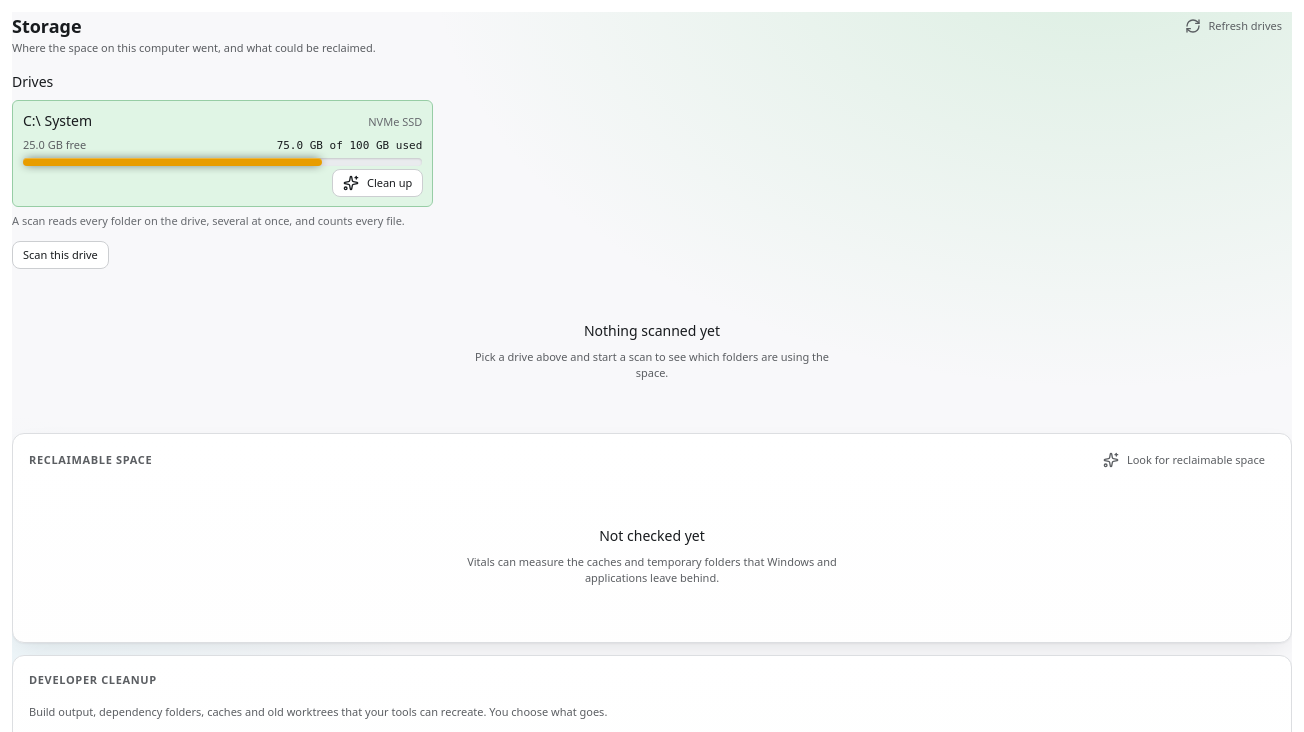
Test: StorageScreen › the review basket › opens the folder row menu on a right click but not on a left-button contextmenu
Expected: the heading "Storage" is shown, top-left (12, 14), bottom-right (82, 38)
Click the button "Scan this drive".
click(60, 255)  # box top-left (12, 241), bottom-right (109, 269)
(page scrolled)
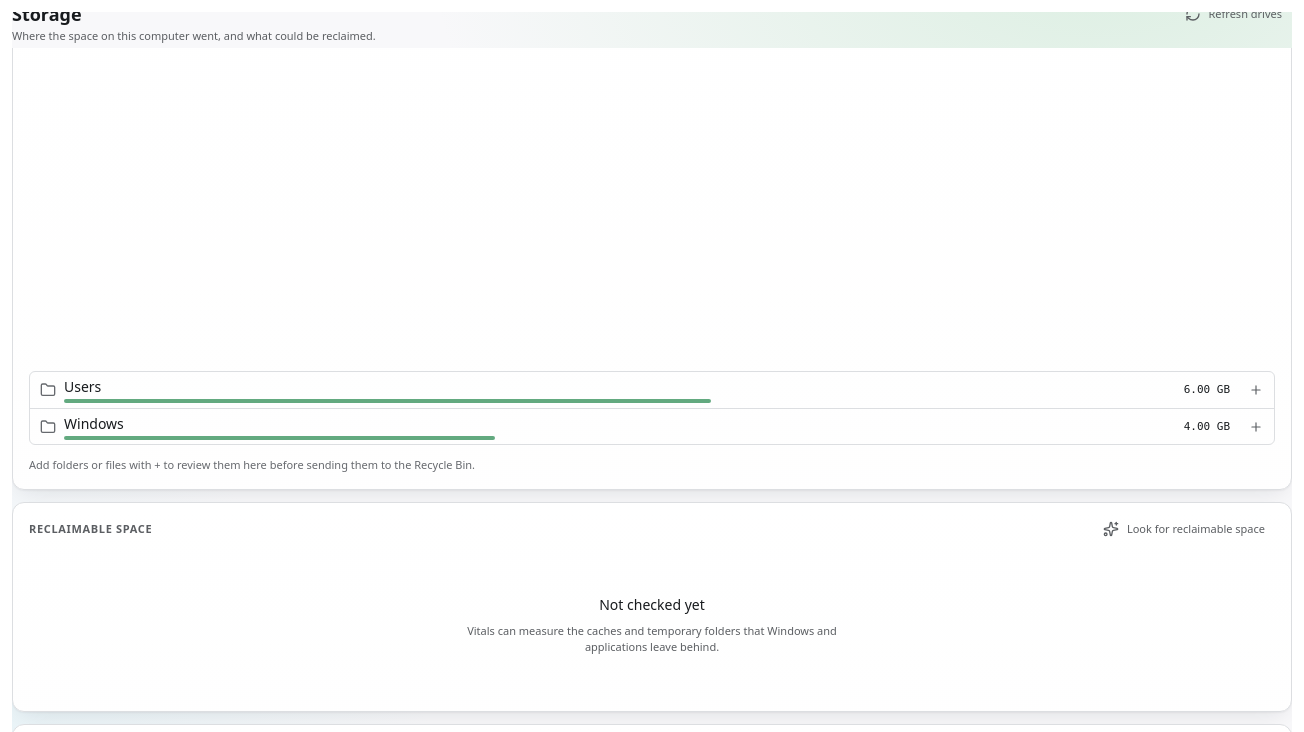
Right-click the button with aria-label "Open Users".
right_click(83, 386)  # box top-left (30, 372), bottom-right (1240, 408)
Right-click the button with aria-label "Open Users".
right_click(83, 386)  # box top-left (30, 372), bottom-right (1240, 408)
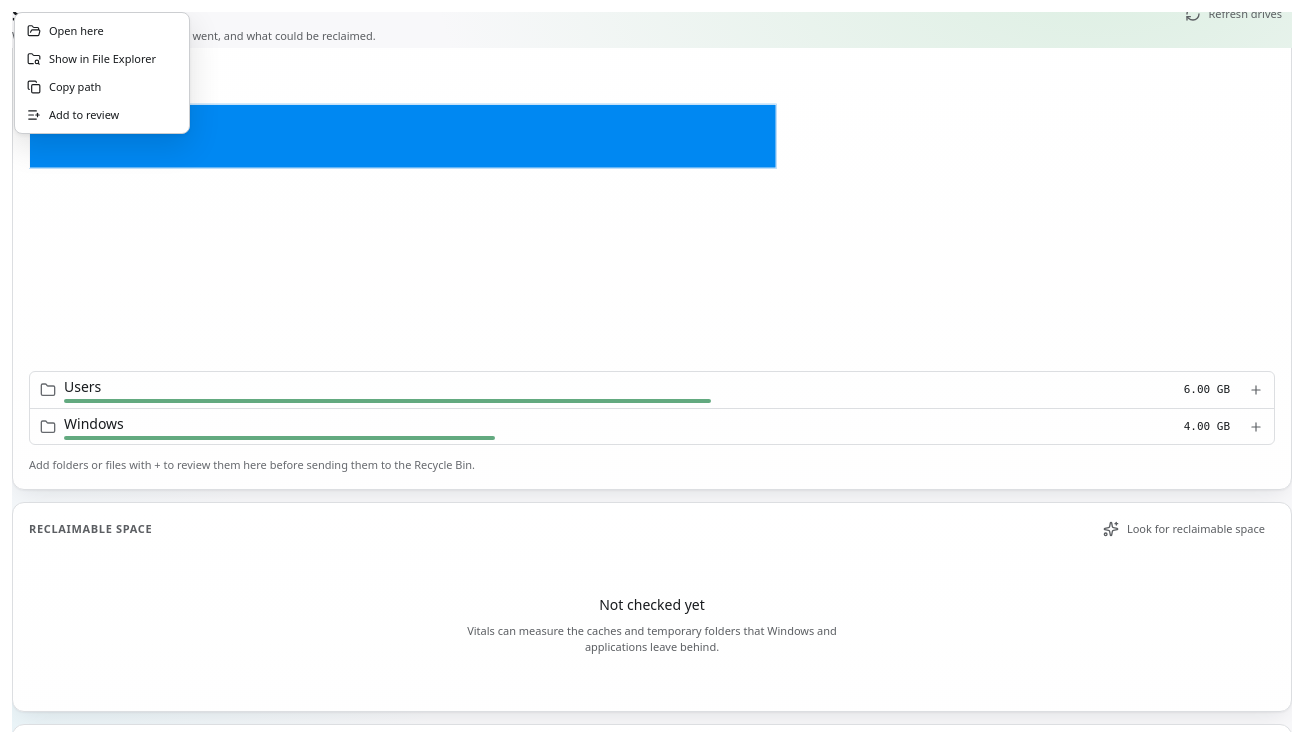
Expected: the menu item "Open here" is shown, top-left (27, 23), bottom-right (104, 38)
Expected: the menu item "Show in File Explorer" is shown, top-left (27, 51), bottom-right (156, 66)
Expected: the menu item "Copy path" is shown, top-left (27, 79), bottom-right (101, 94)
